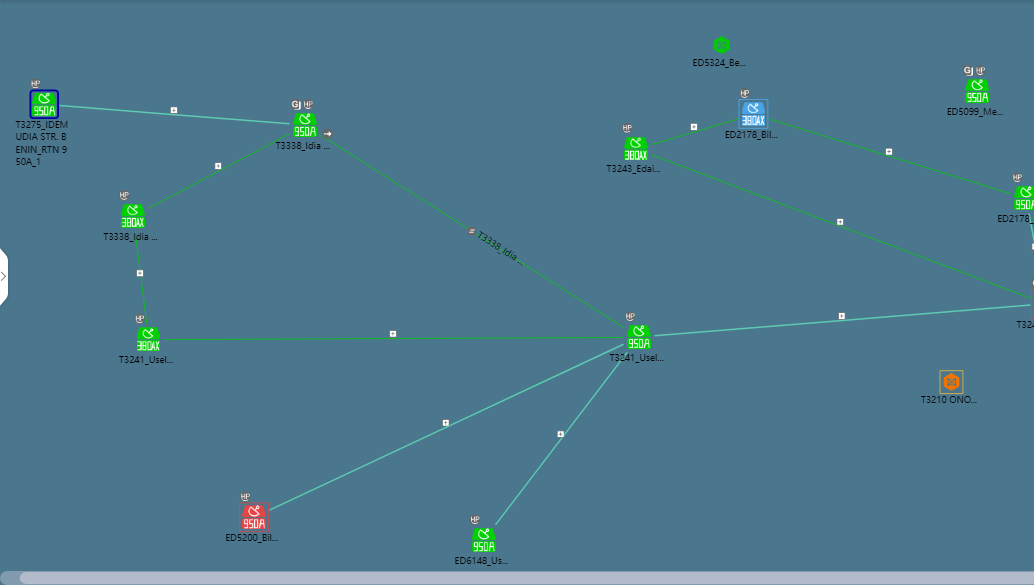Link_Blue: (268, 341, 620, 514), (494, 347, 625, 522), (656, 302, 1015, 339), (61, 102, 288, 123), (1024, 212, 1032, 242)
Link_Green: (320, 134, 628, 333), (659, 154, 1029, 301), (766, 115, 1016, 197), (145, 128, 292, 207), (178, 335, 546, 346), (242, 335, 548, 346), (649, 115, 735, 144), (132, 231, 147, 326)
RTN_Gray: (740, 102, 771, 126)
RTN_Green: (29, 89, 60, 120), (475, 528, 499, 559), (624, 328, 654, 352), (624, 134, 646, 165), (966, 82, 990, 107), (294, 115, 318, 139), (120, 205, 144, 229), (139, 328, 163, 351), (1011, 186, 1032, 210)
RTN_Red: (242, 503, 265, 533)
